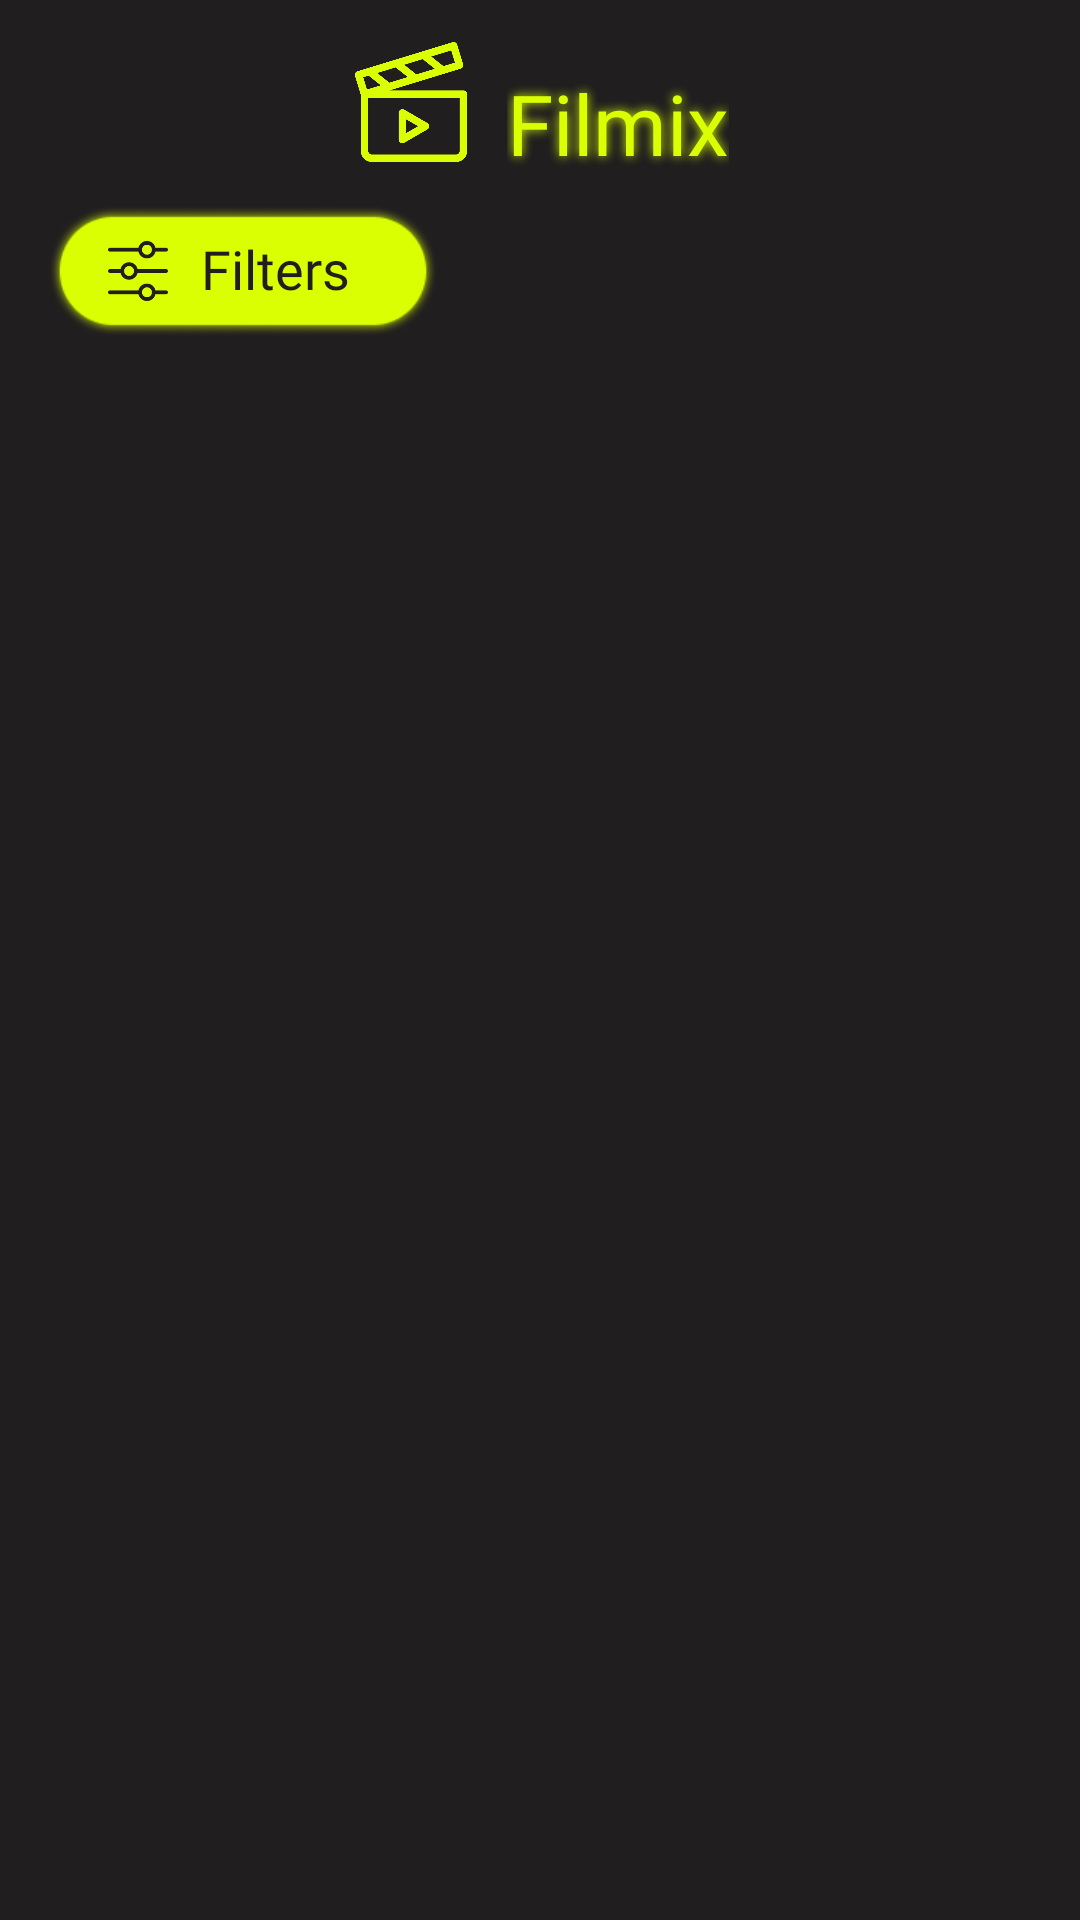

Icon bounding boxes for this 1080px×1920px phone screenshot, format (x1, y1, x2, y2):
clapperboard: (355, 42, 467, 162)
